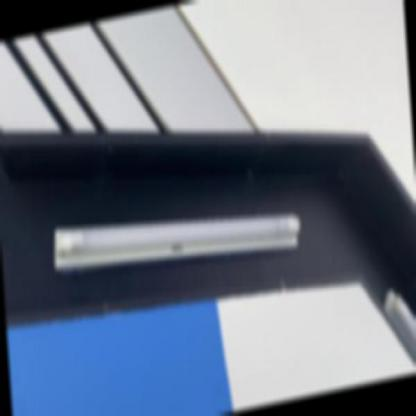light_off: (41, 159, 309, 317), (375, 266, 415, 381)
